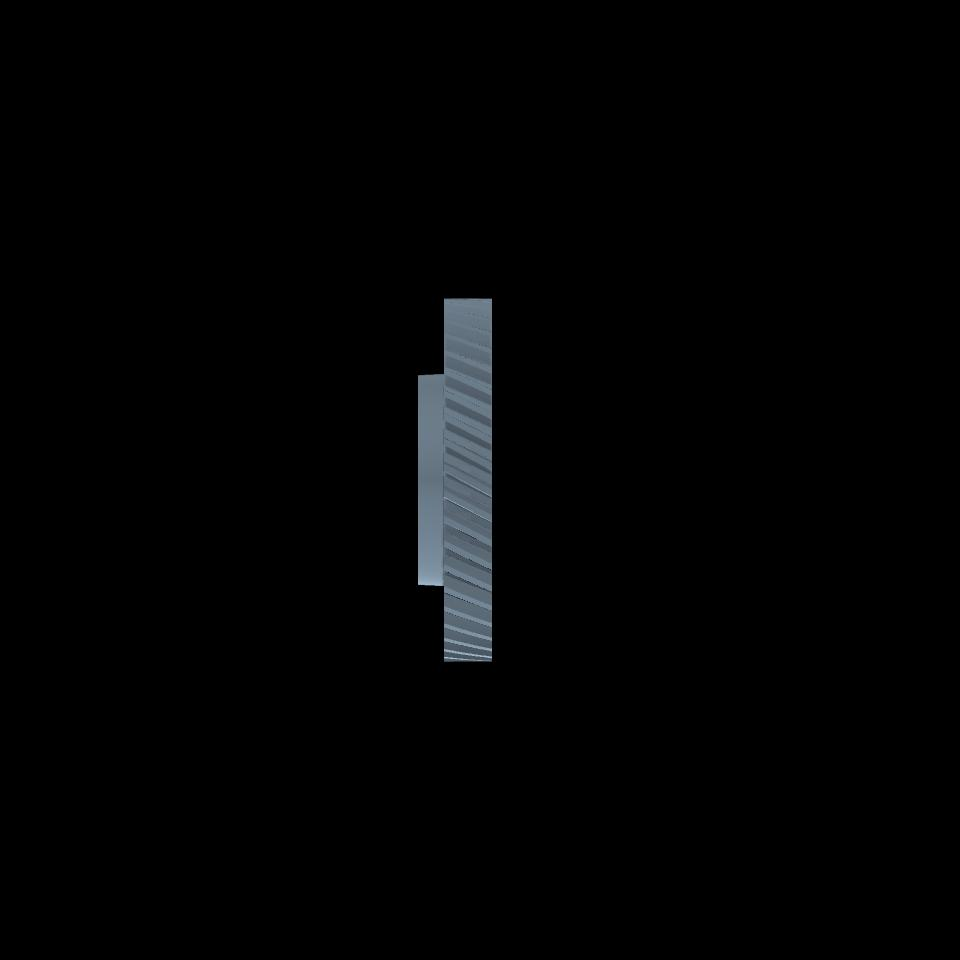Helical: (444, 298, 492, 661)
